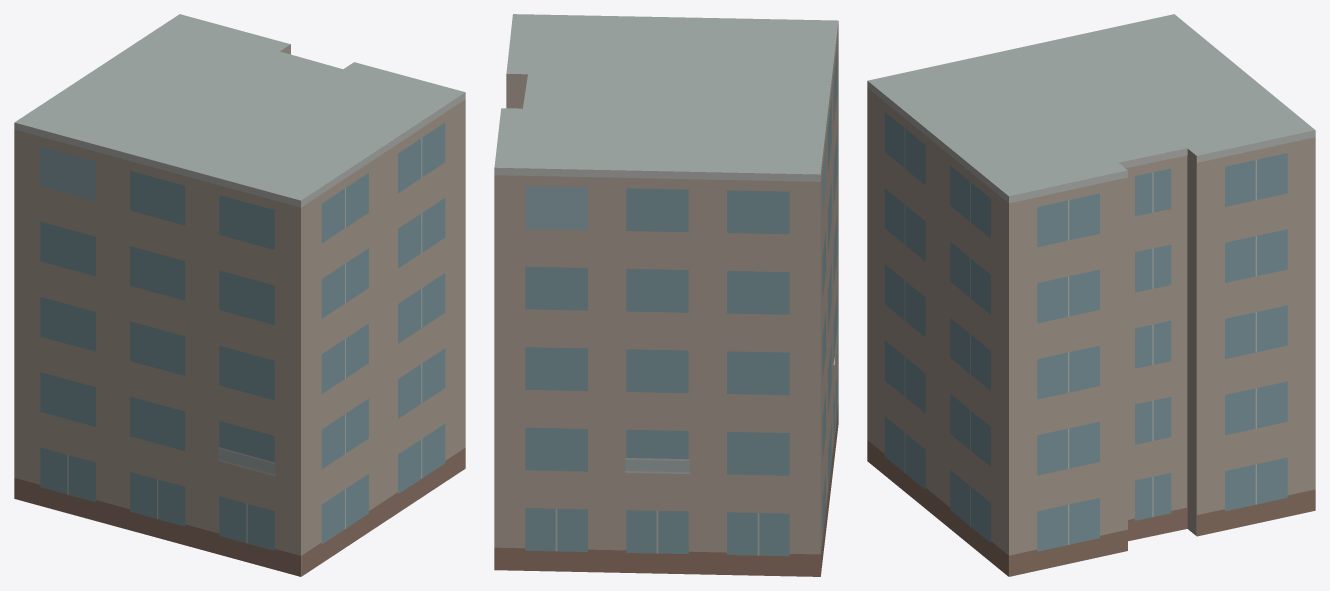
Rendered from survey-upis-32833921.glb.
The picture shows the model from 3 angles, left to right: view 1: azimuth 30°, elevation 25°; view 2: azimuth 150°, elevation 25°; view 3: azimuth 270°, elevation 25°; orthographic projection. The views are drawn at different scales.
Parts seen in each view (by area): view 1: survey-upis-32833921.tmp; view 2: survey-upis-32833921.tmp; view 3: survey-upis-32833921.tmp.
Part boxes in pixels (<box>): survey-upis-32833921.tmp: <box>14,14,465,576</box>; survey-upis-32833921.tmp: <box>494,14,838,576</box>; survey-upis-32833921.tmp: <box>867,14,1315,576</box>.
Bounding box in the file's own units: 13.58 × 13.2 × 14.1.
